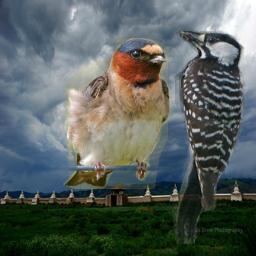Swallow: (63, 38, 173, 189)
Woodpecker: (172, 25, 248, 244)
